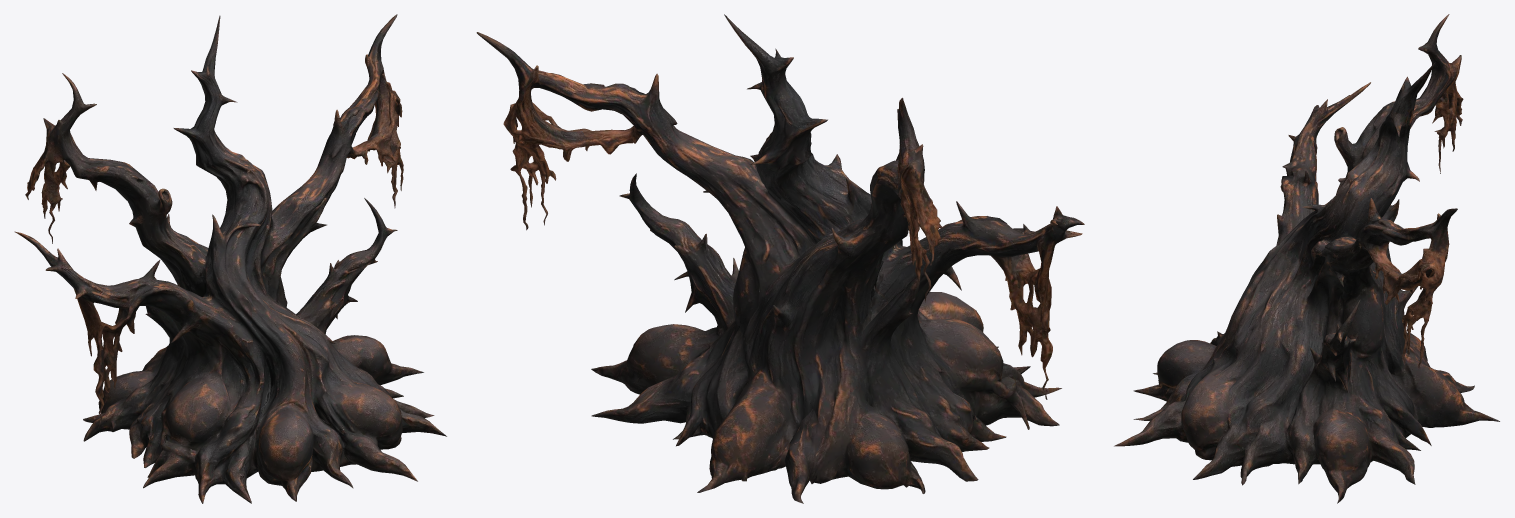
Rendered from 14_Dead_Tree.glb.
The picture shows the model from 3 angles, left to right: view 1: azimuth 30°, elevation 25°; view 2: azimuth 150°, elevation 25°; view 3: azimuth 270°, elevation 25°; orthographic projection. The views are drawn at different scales.
Bounding box in the file's own units: 1.9 × 1.53 × 1.48.
1 material, 1 textured.
